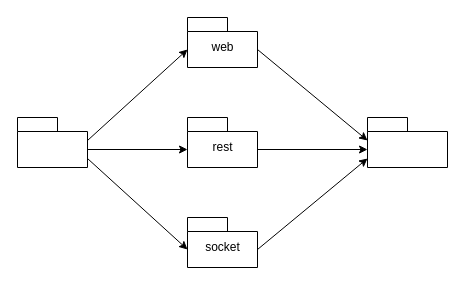
Image size: 465x285. Some labels were removed from this diagram. The shapes that lost their labels are listed below. From the top down, each one's centre as x and y in pixels, then its label:
At (52,142): "interfaces".
At (407,142): "viewadapters".
